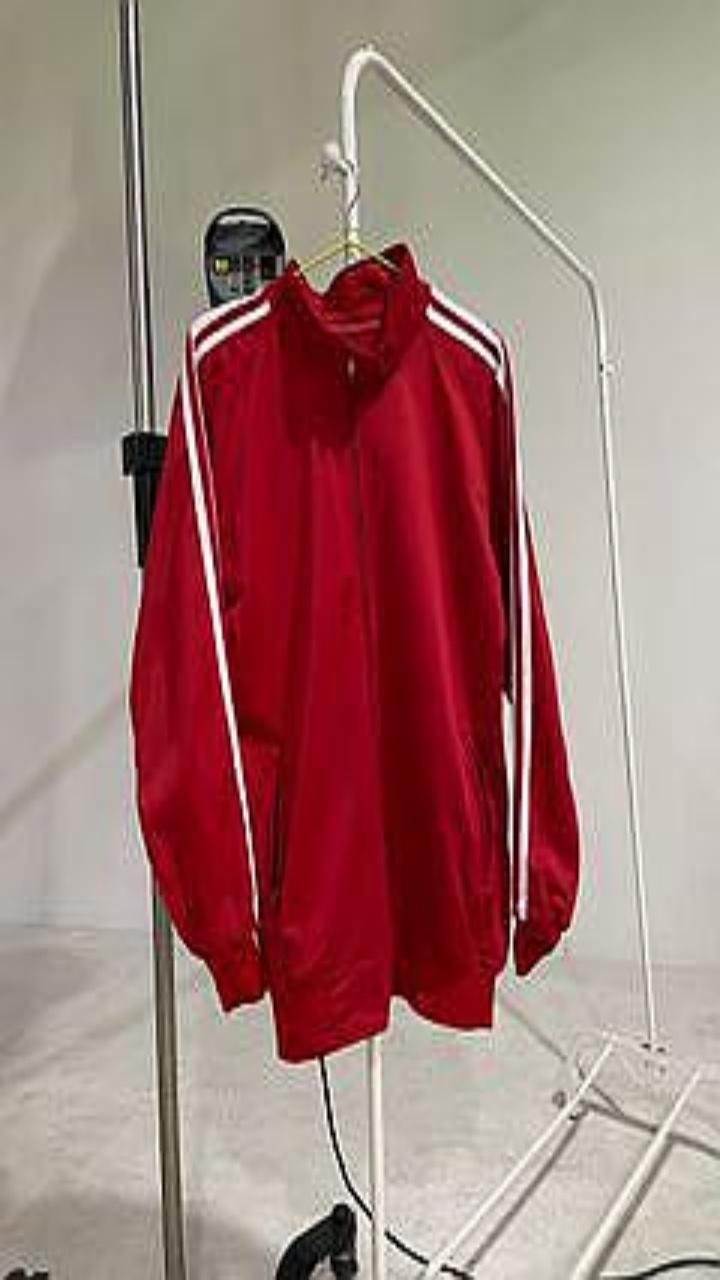Sports_Jacket: (129, 244, 577, 1061)
